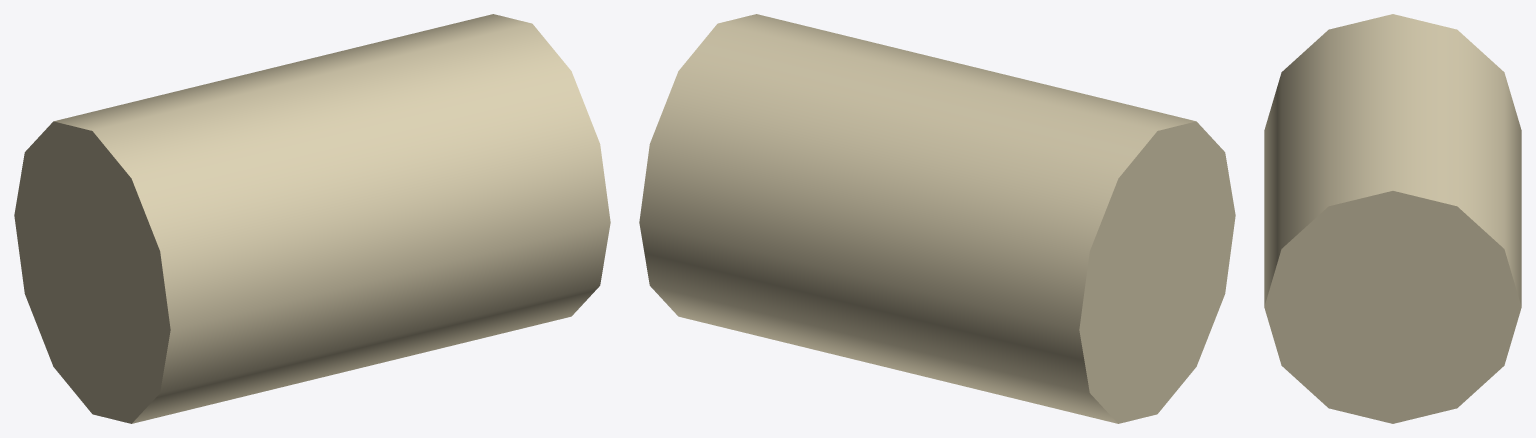
Rendered from hefe_pylon.obj.
The picture shows the model from 3 angles, left to right: view 1: azimuth 30°, elevation 25°; view 2: azimuth 150°, elevation 25°; view 3: azimuth 270°, elevation 25°; orthographic projection. The views are drawn at different scales.
Visible parts, largest first — view 1: hefe_pylon; view 2: hefe_pylon; view 3: hefe_pylon.
Part boxes in pixels (bbox=[...]): hefe_pylon: bbox=[14, 14, 610, 423]; hefe_pylon: bbox=[639, 14, 1235, 423]; hefe_pylon: bbox=[1264, 14, 1521, 423].
Size of the model in its own units: 0.65 by 0.4 by 0.4.
